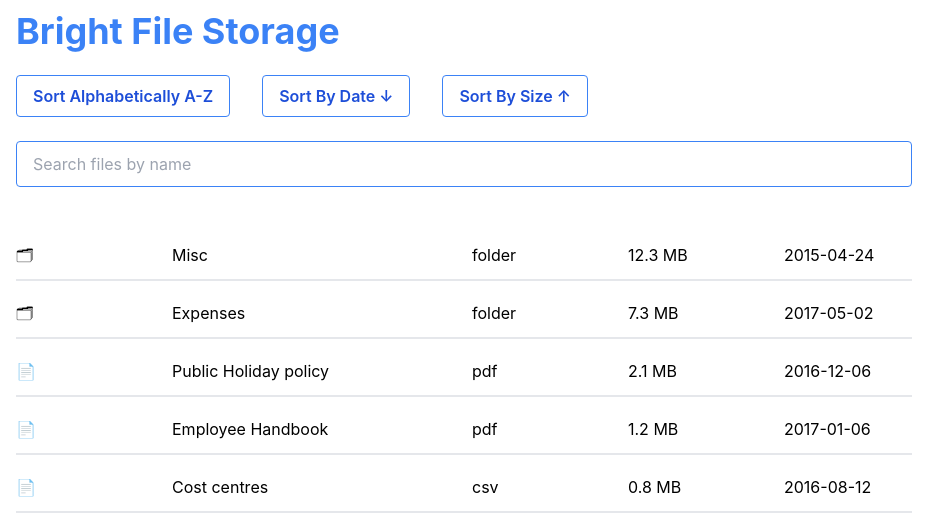
Scenario: Filestorage <App /> › can filter the files by name
expect the number of elements with test id "file-name" is 5: met, box [172,245,208,265]; [172,303,245,323]; [172,361,329,381]; [172,419,328,439]; [172,477,268,497]
Type "Misc" into the field with placeholder "Search files by name" at (464, 164), box [16,141,912,187]
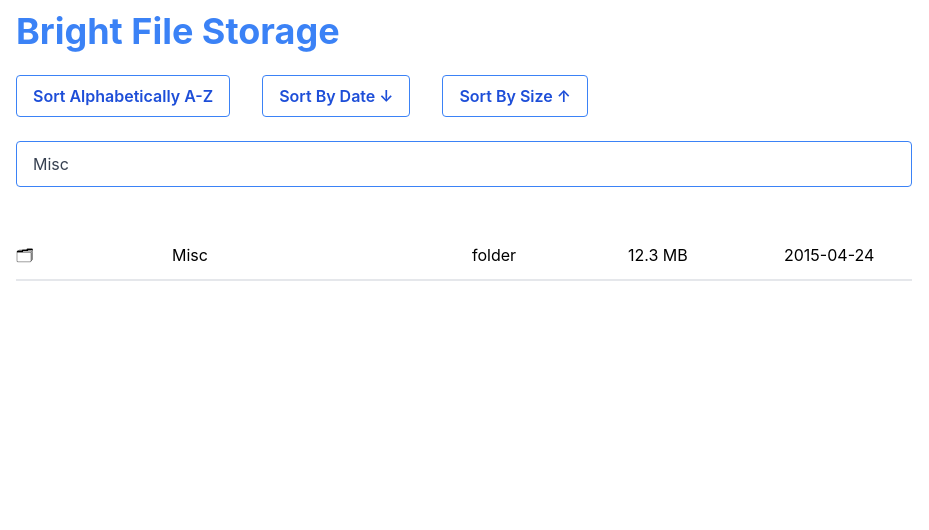
expect the text with test id "file-name" reads "Misc": met, box [172,245,208,265]
expect the number of elements with test id "file-name" is 1: met, box [172,245,208,265]
